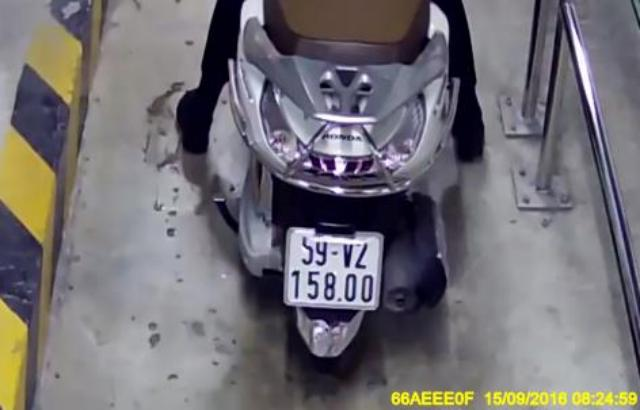plate: (278, 223, 387, 320)
